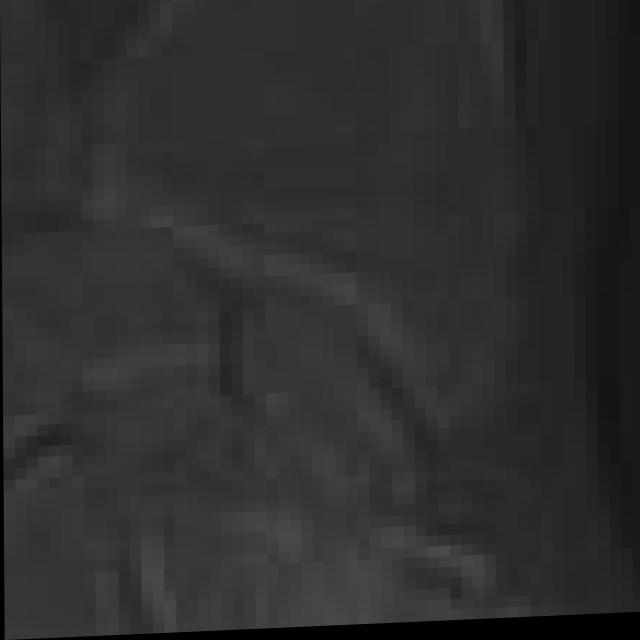fracture: (0, 0, 640, 619)
